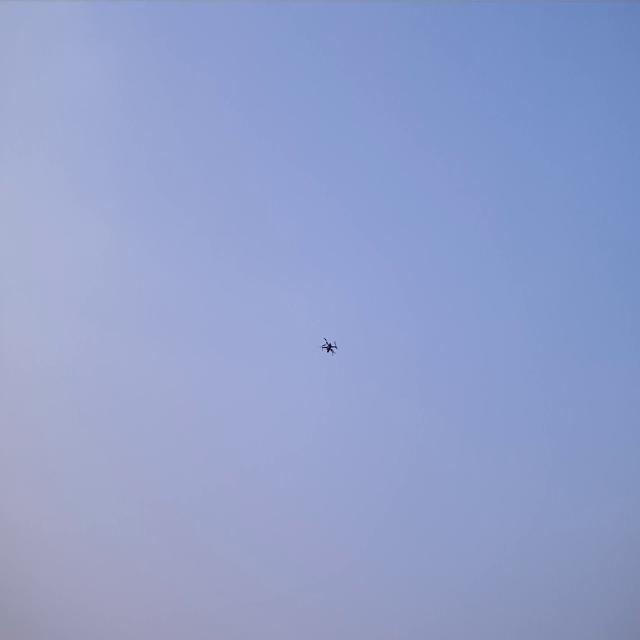UAV: (318, 335, 338, 359)
